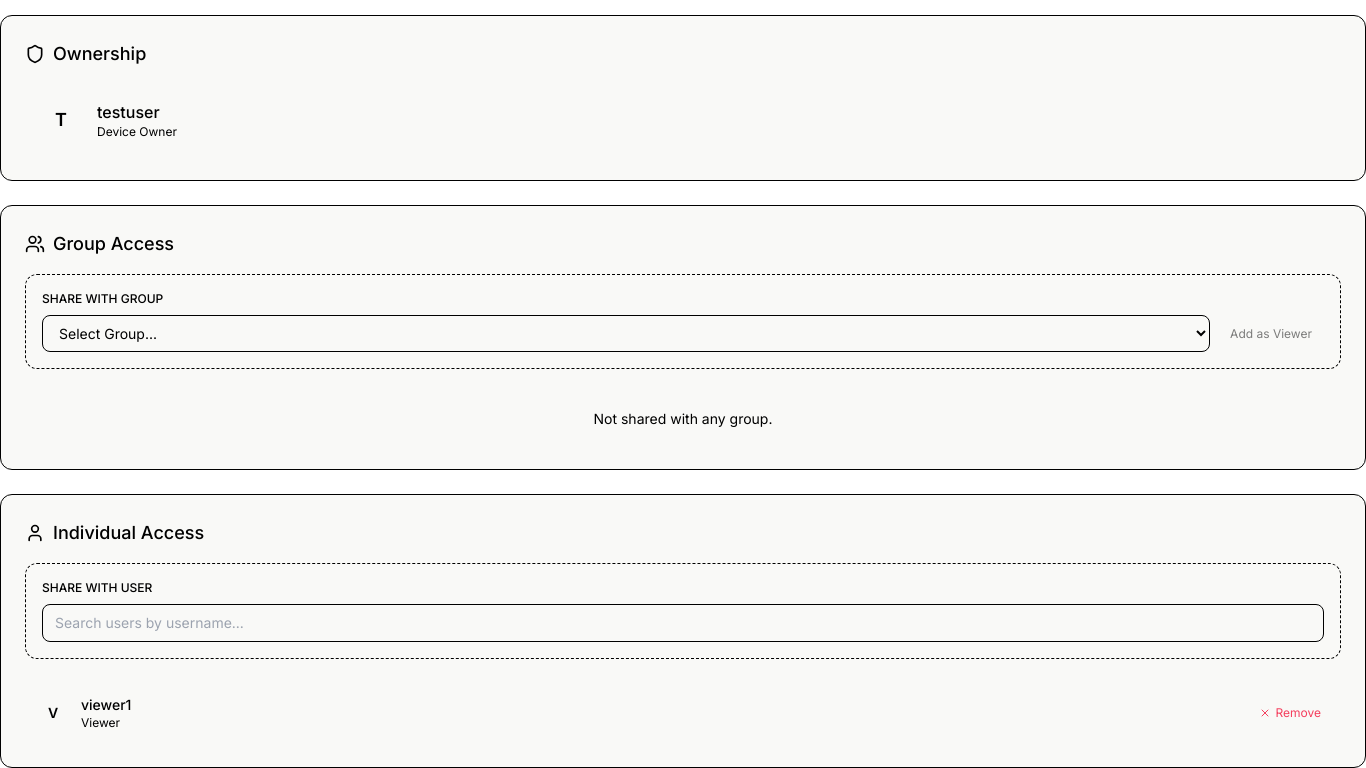
Test: DeviceSharing › user sharing › shows search results dropdown
(page scrolled)
Type "new" into the field with placeholder "Search users by username..." at (683, 623), box [42, 604, 1324, 642]
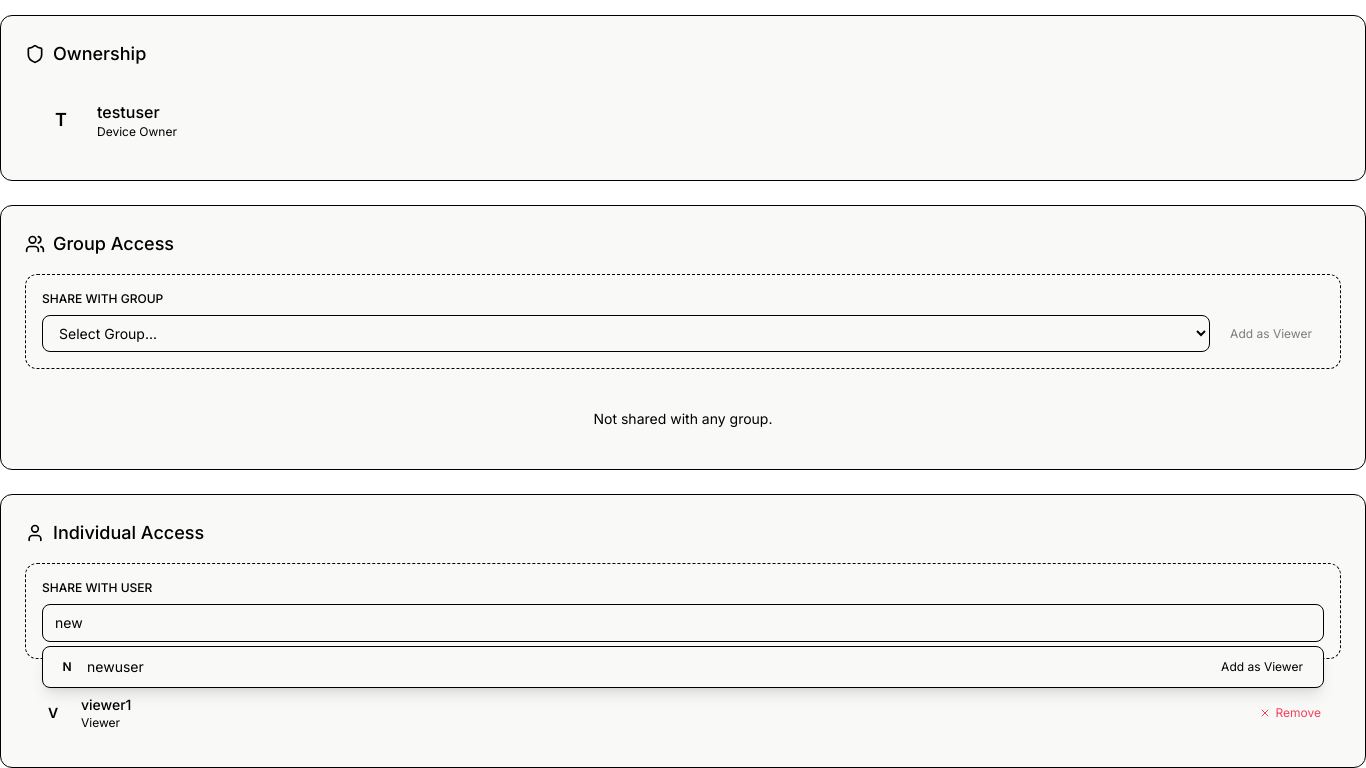
Check: the text "newuser" is shown, box [87, 657, 144, 677]
